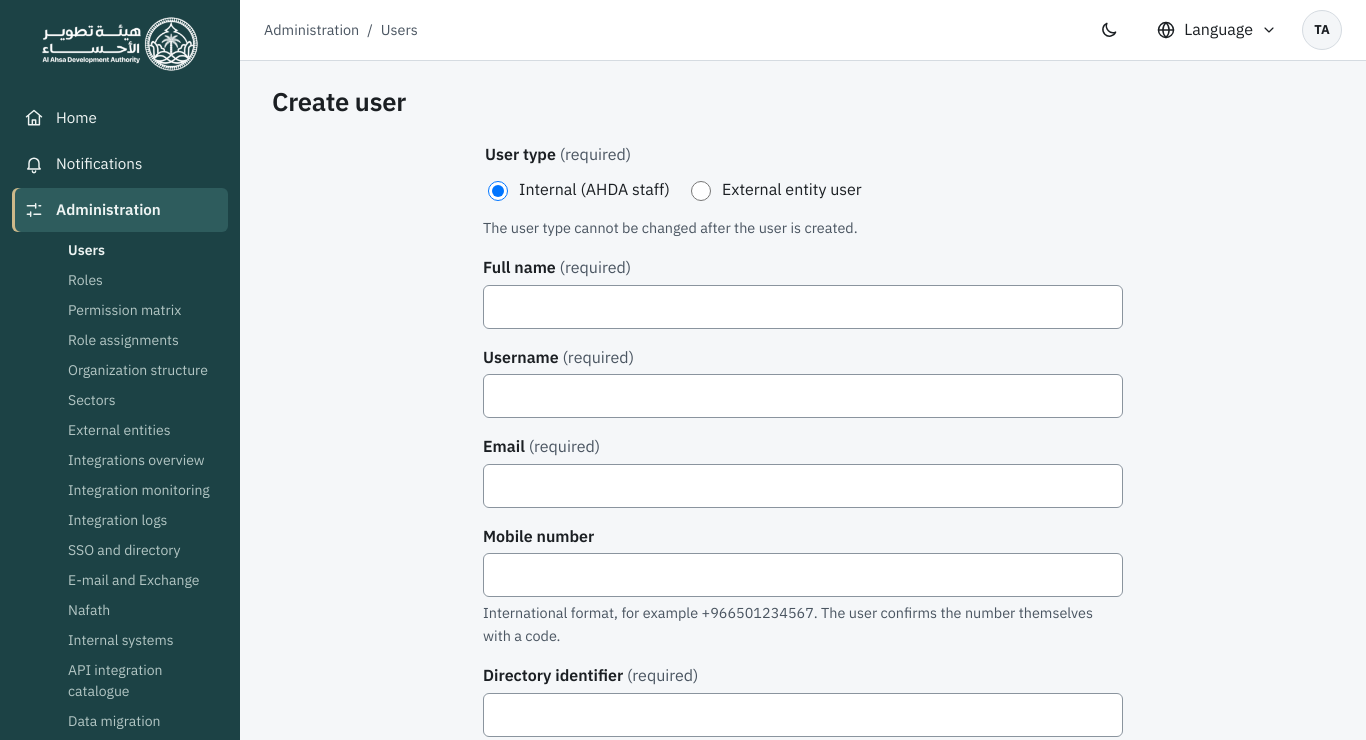
it: ADM-004 Create User › a taken username is shown on the username field, from the API's errors[]
The width and height of the screenshot is (1366, 740).
Expected: the heading "Create user" is shown, [272,85,406,118]
Type "Sara Internal" into the field labelled "Full name (required)" at (803, 306), box [483,284,1123,328]
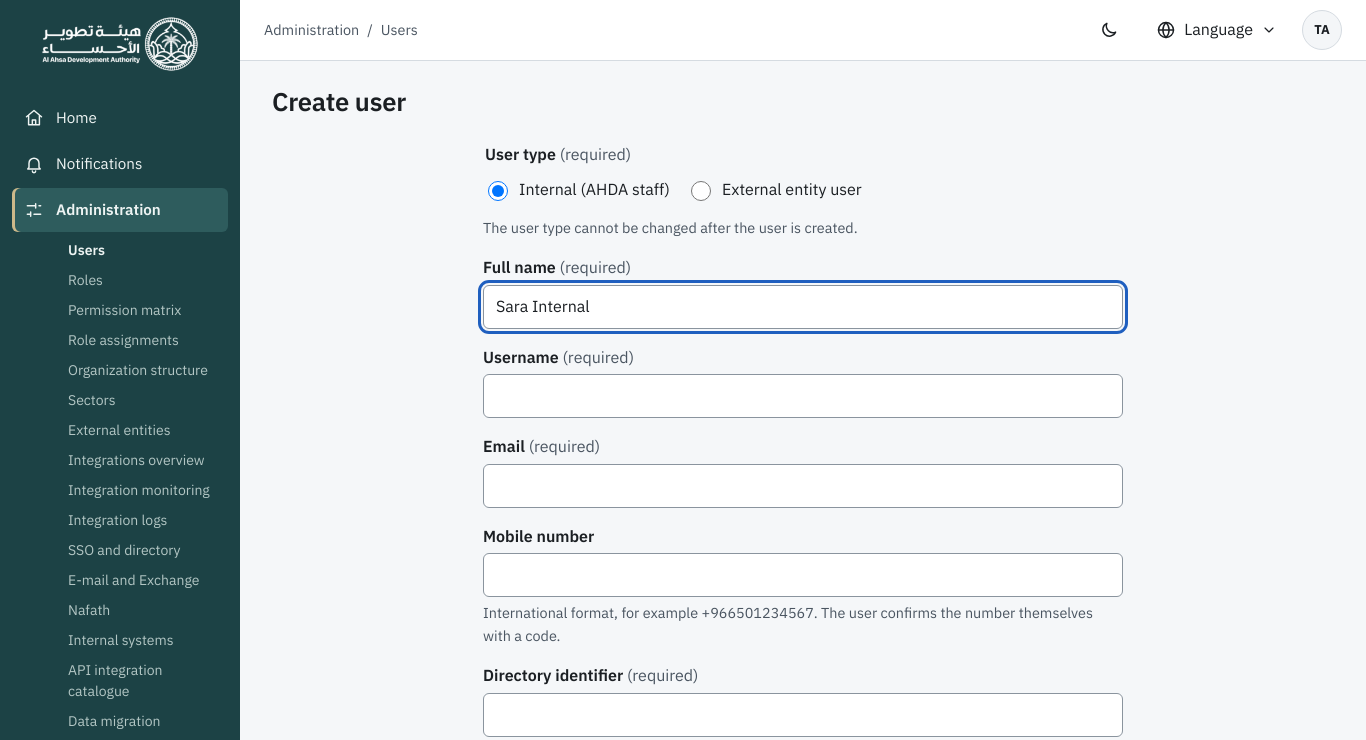
Type "sara.internal" into the field labelled "Username (required)" at (803, 396), box [483,374,1123,418]
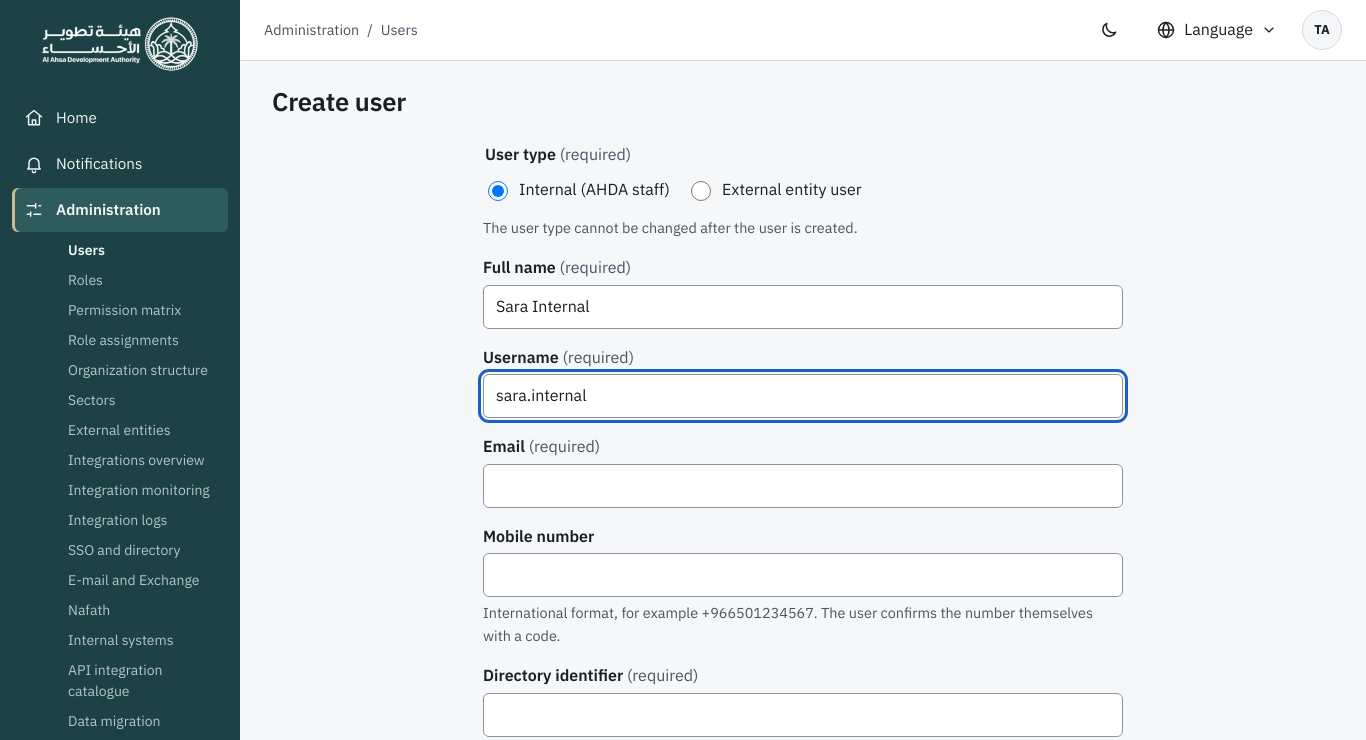
Type "sara.internal@example.test" into the field labelled "Email (required)" at (803, 486), box [483,464,1123,508]
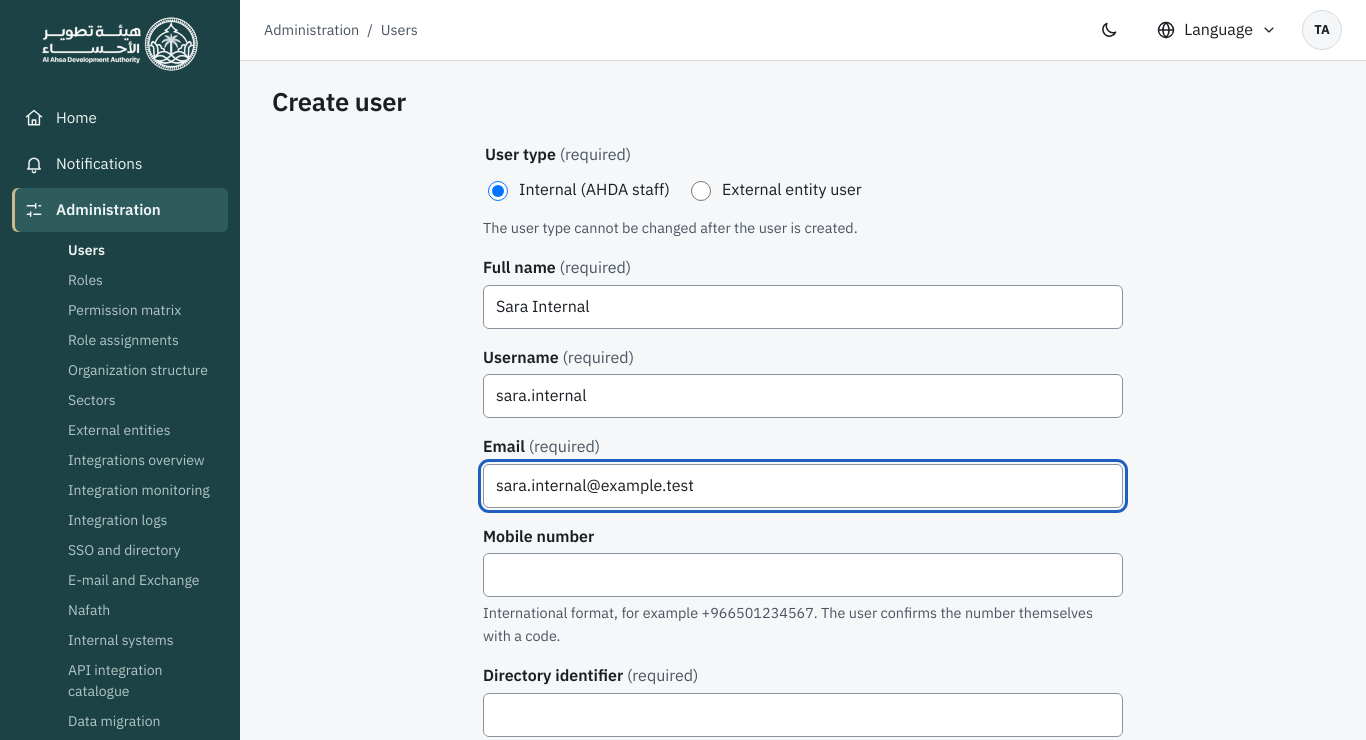
Type "dir-sara" into the field labelled "Directory identifier (required)" at (803, 715), box [483,693,1123,737]
(page scrolled)
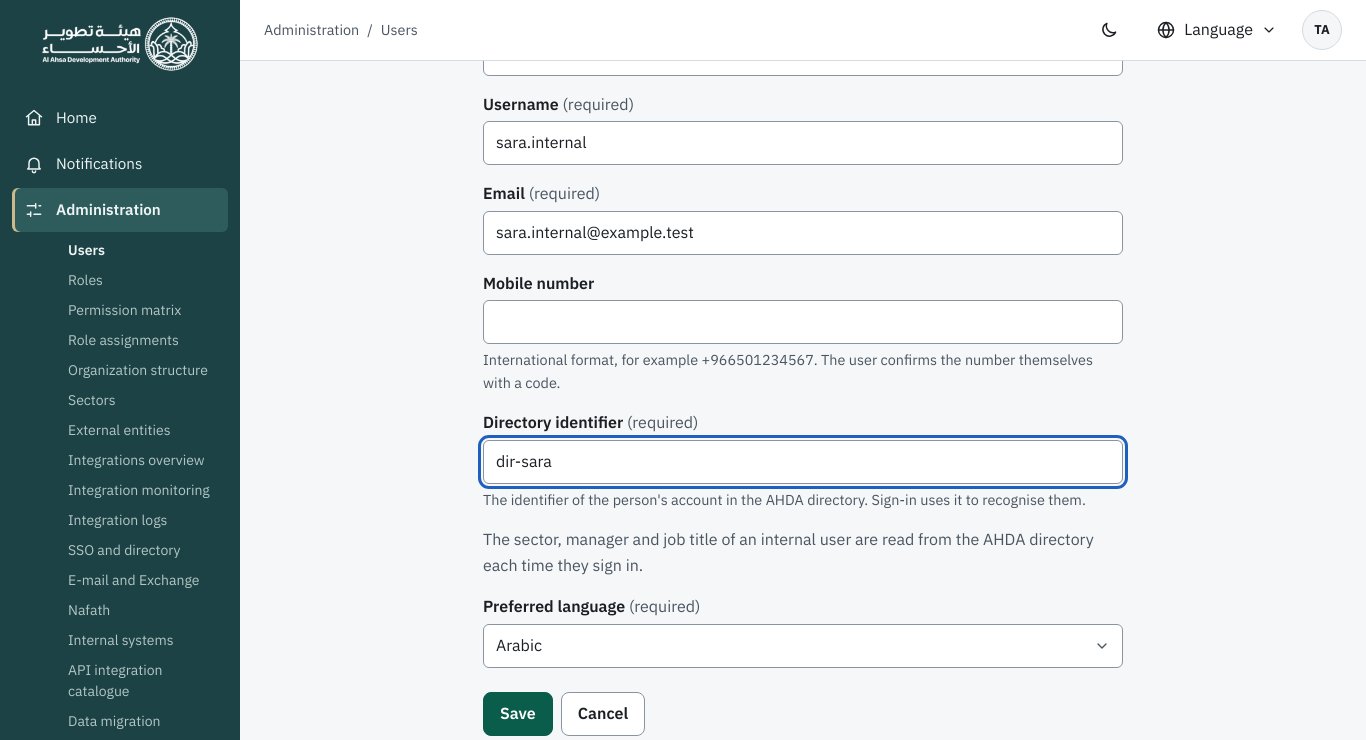
Click the button "Save" at (518, 714), box [483,692,553,736]
(page scrolled)
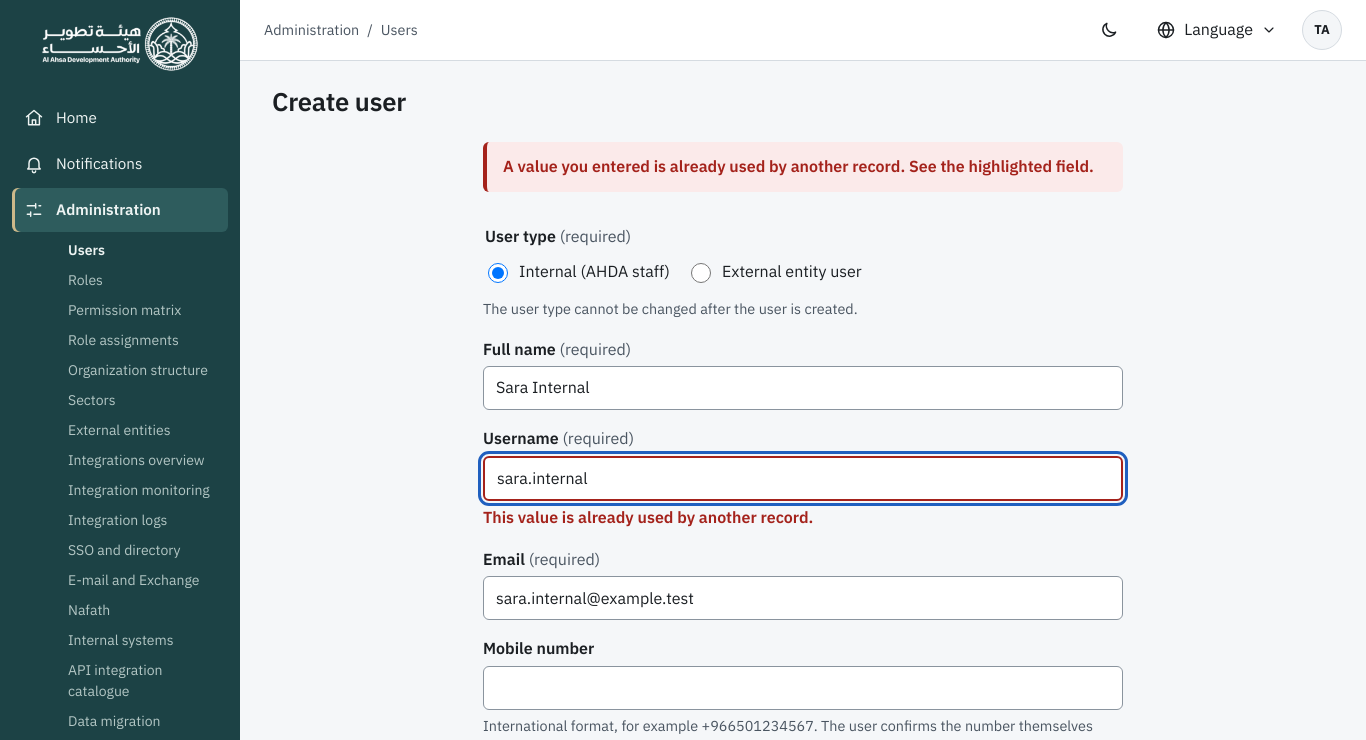
Result: the text "This value is already used by another record." is shown at [483,507,813,527]
Result: the message shows "A value you entered is already used by another record. See the highlighted field." at [503,156,1094,176]
